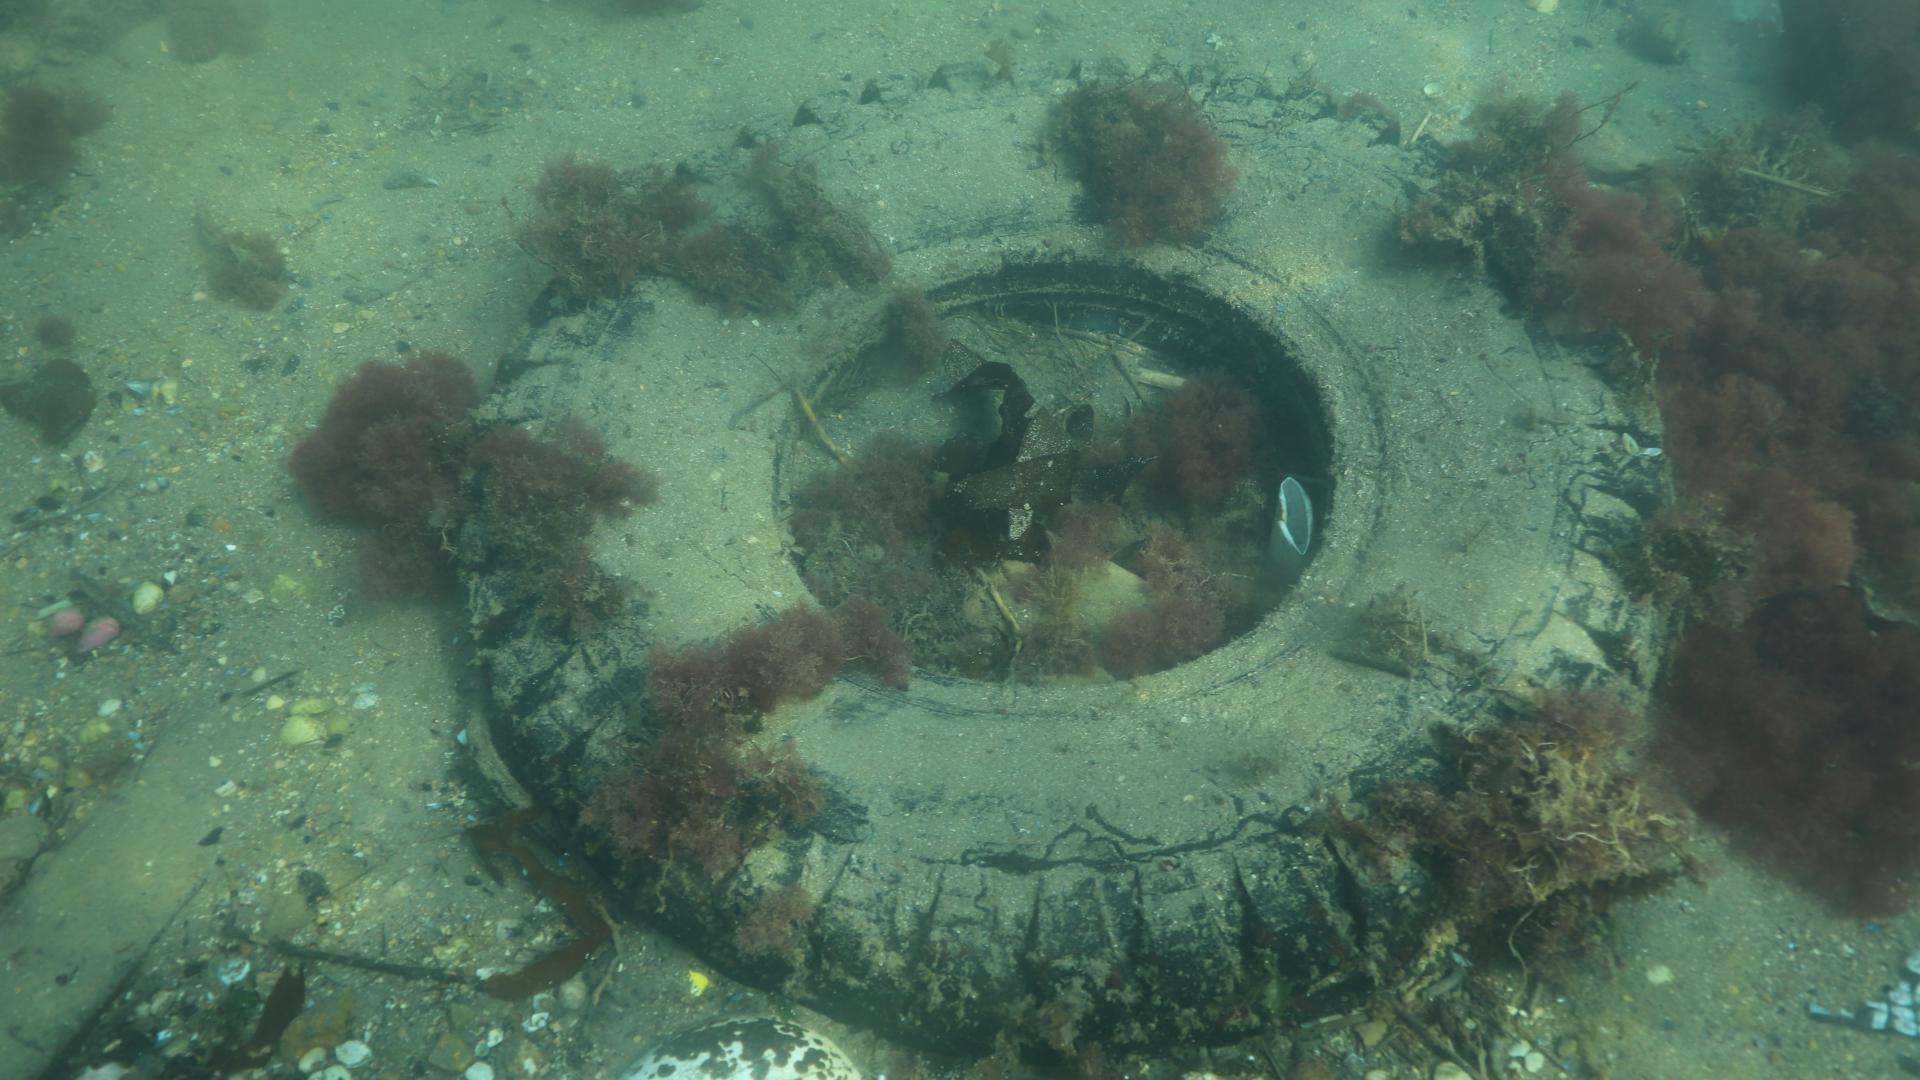tire: (455, 55, 1673, 1044)
